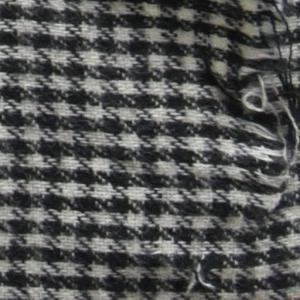Damage: (238, 1, 300, 225), (176, 248, 227, 300)
Stain: (126, 1, 263, 87)
